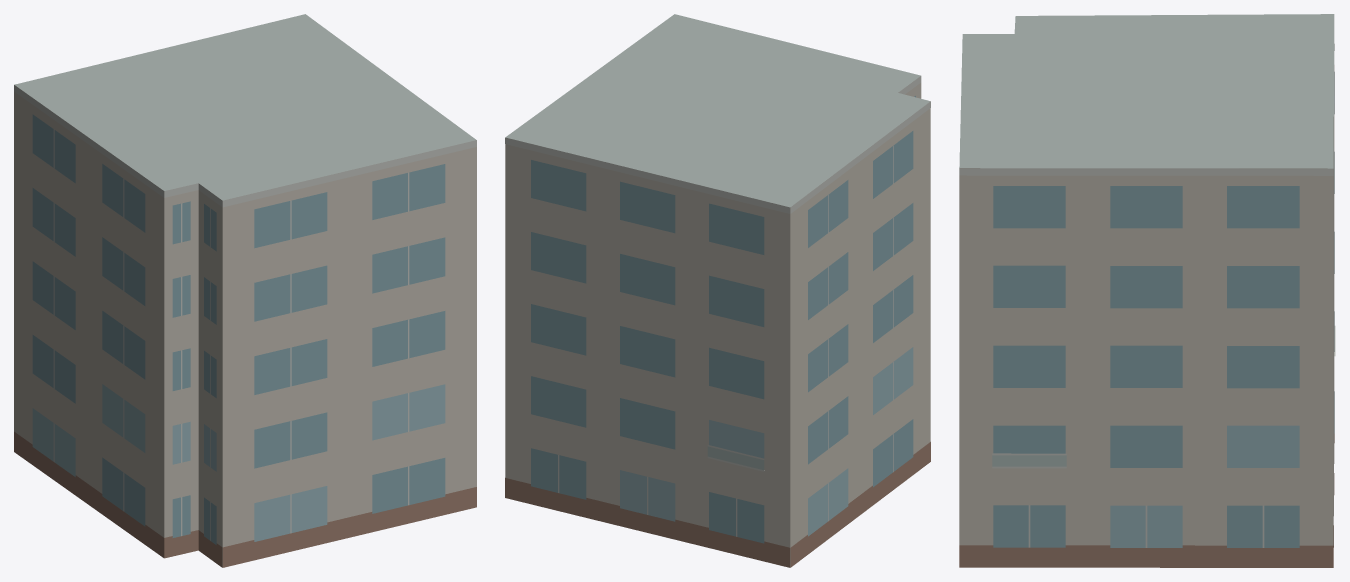
The model's file is survey-upis-32837610.glb.
The picture shows the model from 3 angles, left to right: view 1: azimuth 30°, elevation 25°; view 2: azimuth 150°, elevation 25°; view 3: azimuth 270°, elevation 25°; orthographic projection. The views are drawn at different scales.
Parts seen in each view (by area): view 1: survey-upis-32837610.tmp; view 2: survey-upis-32837610.tmp; view 3: survey-upis-32837610.tmp.
Part boxes in pixels (x1,y1,x2,y2): survey-upis-32837610.tmp: (14, 14, 476, 567); survey-upis-32837610.tmp: (505, 14, 930, 567); survey-upis-32837610.tmp: (959, 14, 1335, 567).
Size of the model in its own units: 10.97 by 13.2 by 11.28.
